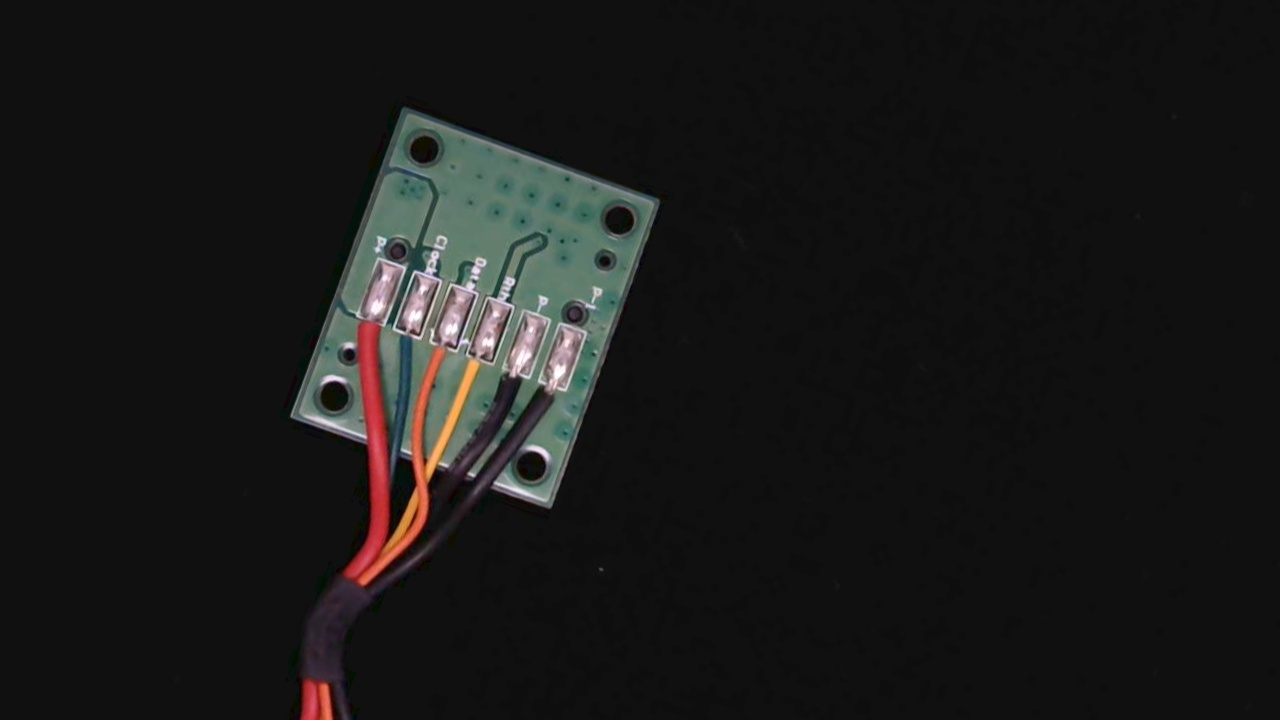Black: (480, 347, 538, 427)
Black1: (519, 361, 573, 435)
Green: (376, 303, 432, 380)
Orange: (411, 318, 466, 397)
Red: (338, 293, 394, 371)
Yellow: (447, 334, 505, 415)
